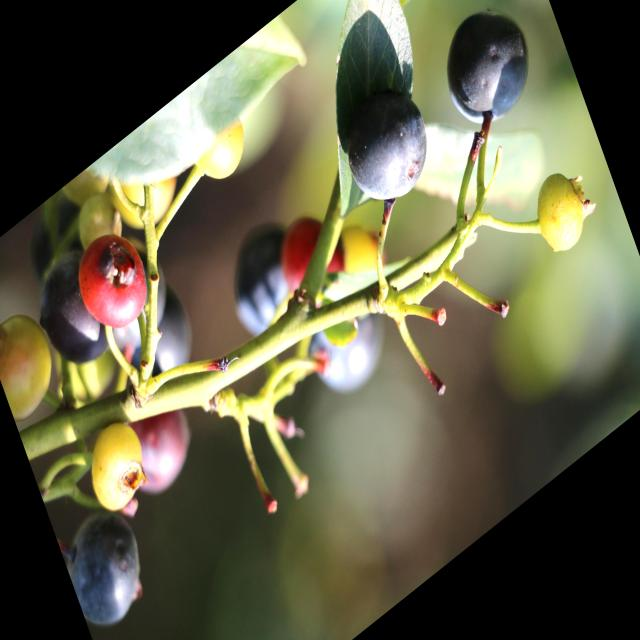blueberry: (326, 59, 444, 232), (212, 196, 324, 366), (428, 0, 546, 151), (300, 270, 408, 419), (56, 487, 160, 640), (24, 241, 121, 393), (115, 276, 209, 412), (92, 231, 183, 363)
blueberry-halfripe: (71, 221, 157, 349), (273, 198, 350, 314)
blueberry-unripe: (102, 138, 184, 252), (0, 294, 67, 430), (78, 409, 155, 524), (524, 155, 598, 269), (188, 106, 255, 198)
